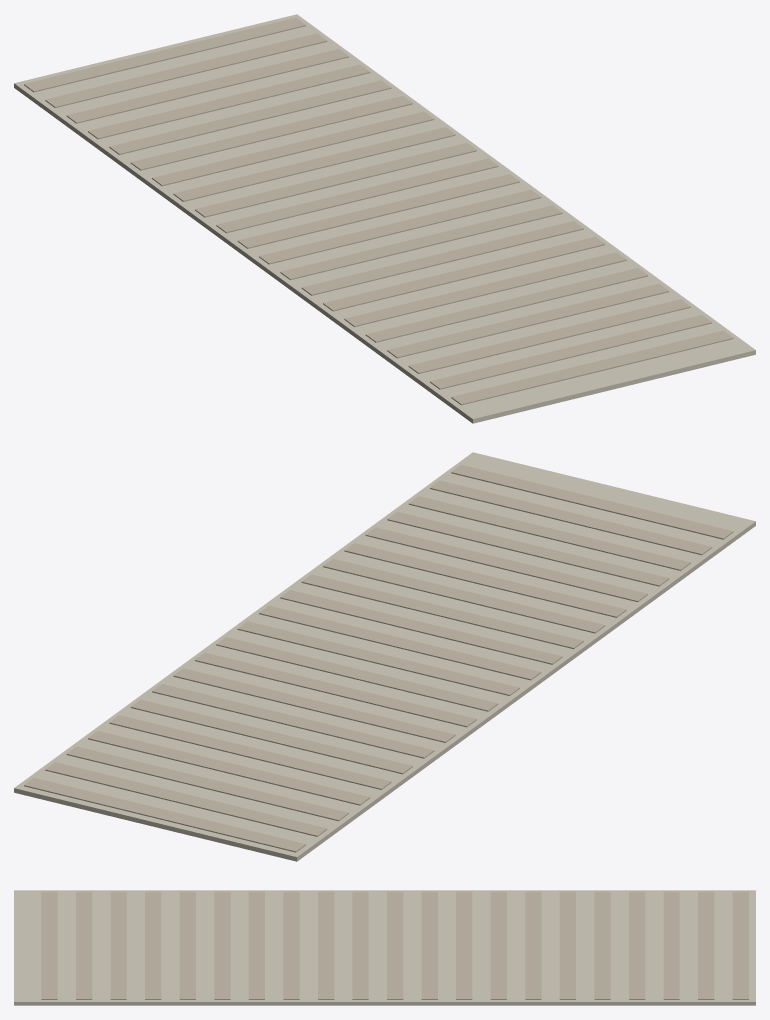
Rendered from hall1f_floor_runner.glb.
The picture shows the model from 3 angles, top to bottom: view 1: azimuth 30°, elevation 25°; view 2: azimuth 150°, elevation 25°; view 3: azimuth 270°, elevation 25°; orthographic projection. The views are drawn at different scales.
Visible parts, largest first — view 1: root; view 2: root; view 3: root.
Boxes of the visible parts, x1,y1,x2,y2 form: root: (14, 14, 755, 423); root: (14, 452, 755, 861); root: (14, 890, 755, 1005).
Size of what is drawn, in the model's own units: 0.7925 by 0.0152 by 2.23.
